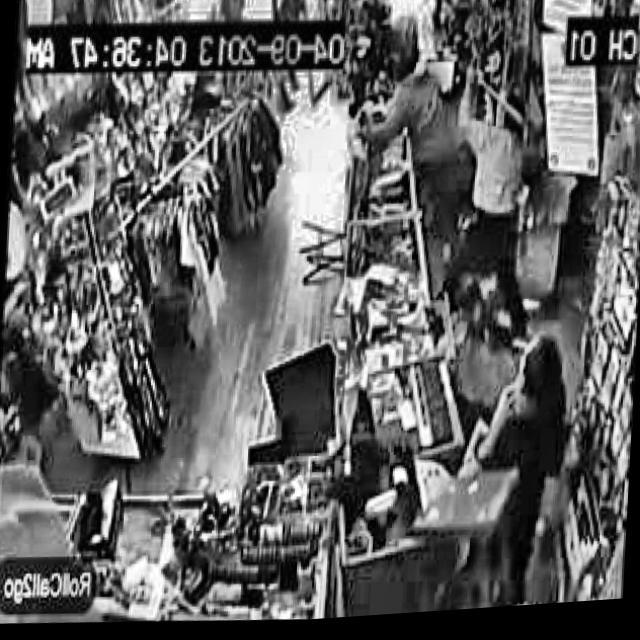robbery: (347, 57, 544, 279)
